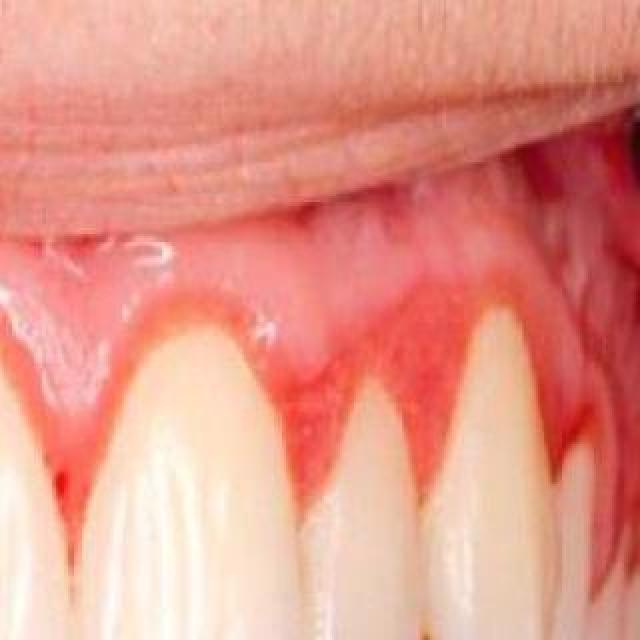plaque: (0, 258, 550, 500)
